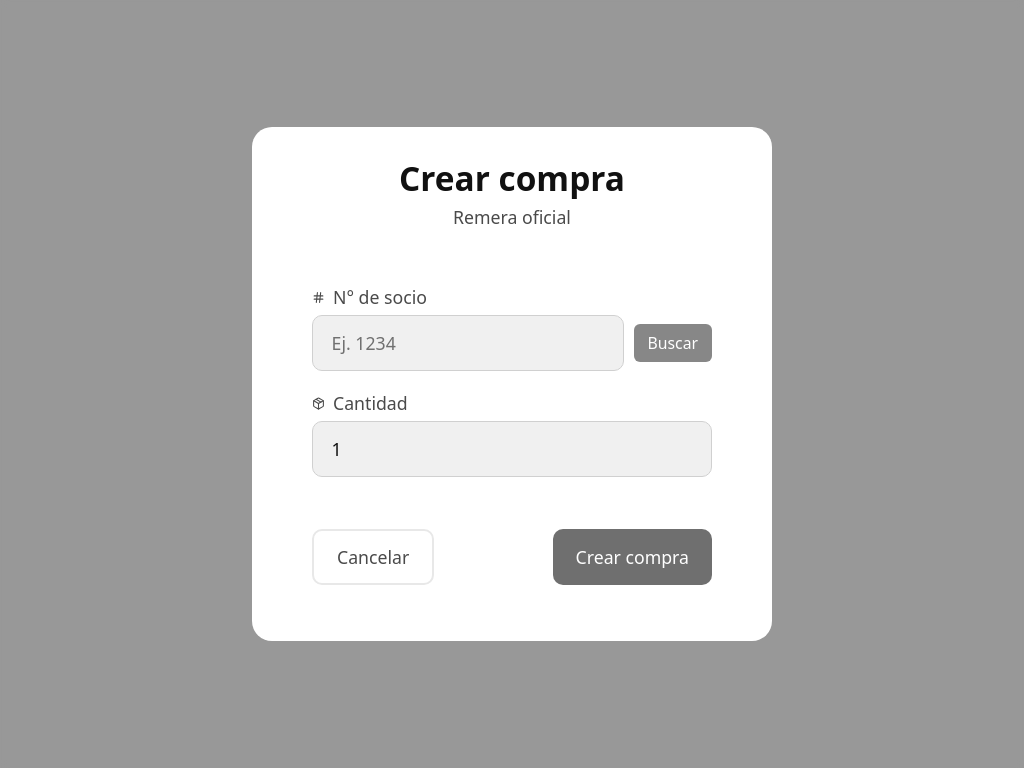
CrearCompraForm › busca el socio por número y muestra su nombre
Type "1234" into the field with placeholder "Ej. 1234" at (468, 343), box [312,315,624,371]
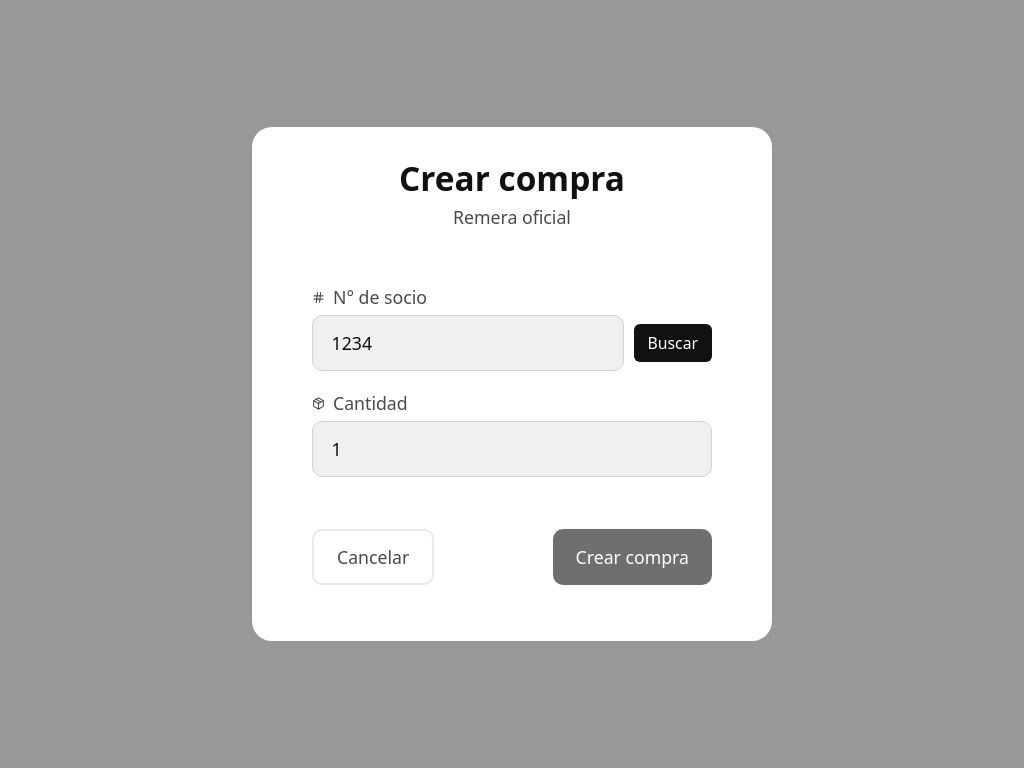
Click the button "Buscar" at (673, 343), box [634,324,712,362]
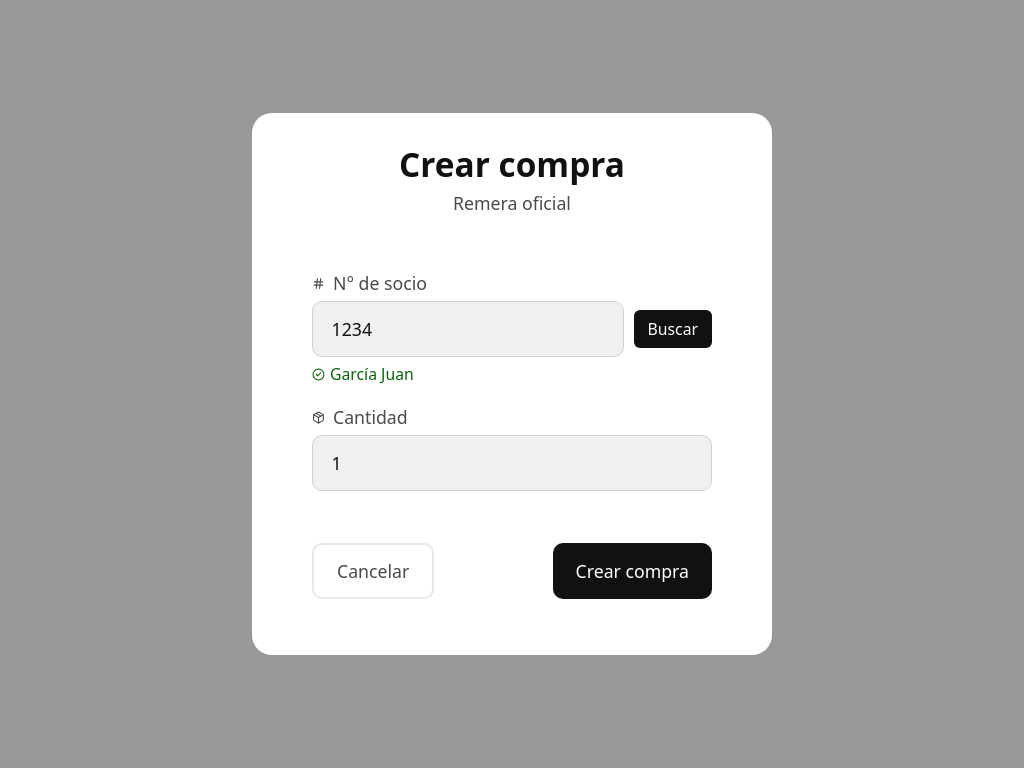
Result: the text "García Juan" is shown at [312,363,414,385]
Result: the button "Crear compra" is enabled at [552,543,712,599]
